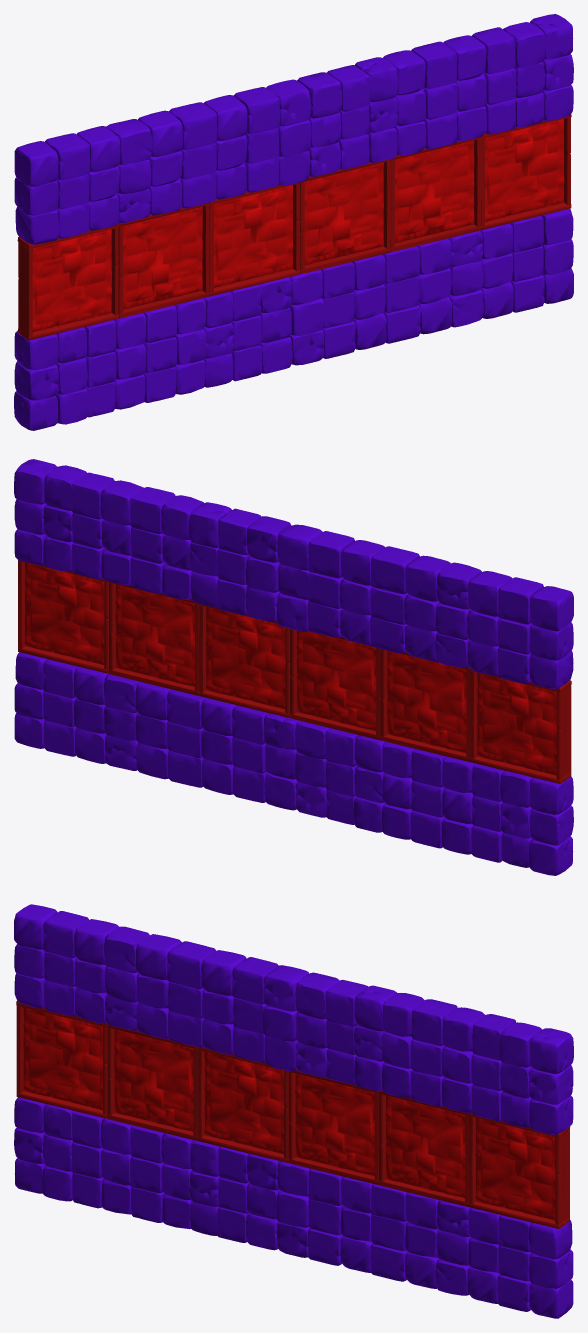
Rendered from wall01.fbx.
3 renders of one model, top to bottom at view 1: azimuth 30°, elevation 25°; view 2: azimuth 150°, elevation 25°; view 3: azimuth 330°, elevation 25°, orthographic.
Visible parts, largest first — view 1: wall01; view 2: wall01; view 3: wall01.
Part boxes in pixels (<box>): wall01: <box>14,14,573,430</box>; wall01: <box>14,459,573,875</box>; wall01: <box>14,904,573,1318</box>.
Bounding box in the file's own units: 23.31 × 11.29 × 1.36.
